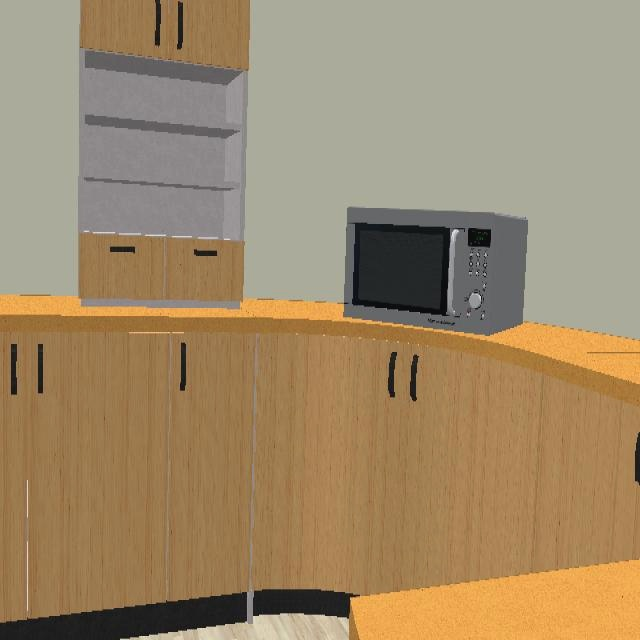cabinet: (0, 333, 640, 621), (80, 0, 249, 304)
countertop: (0, 296, 640, 406), (349, 560, 640, 638)
microwave: (346, 209, 527, 332)
